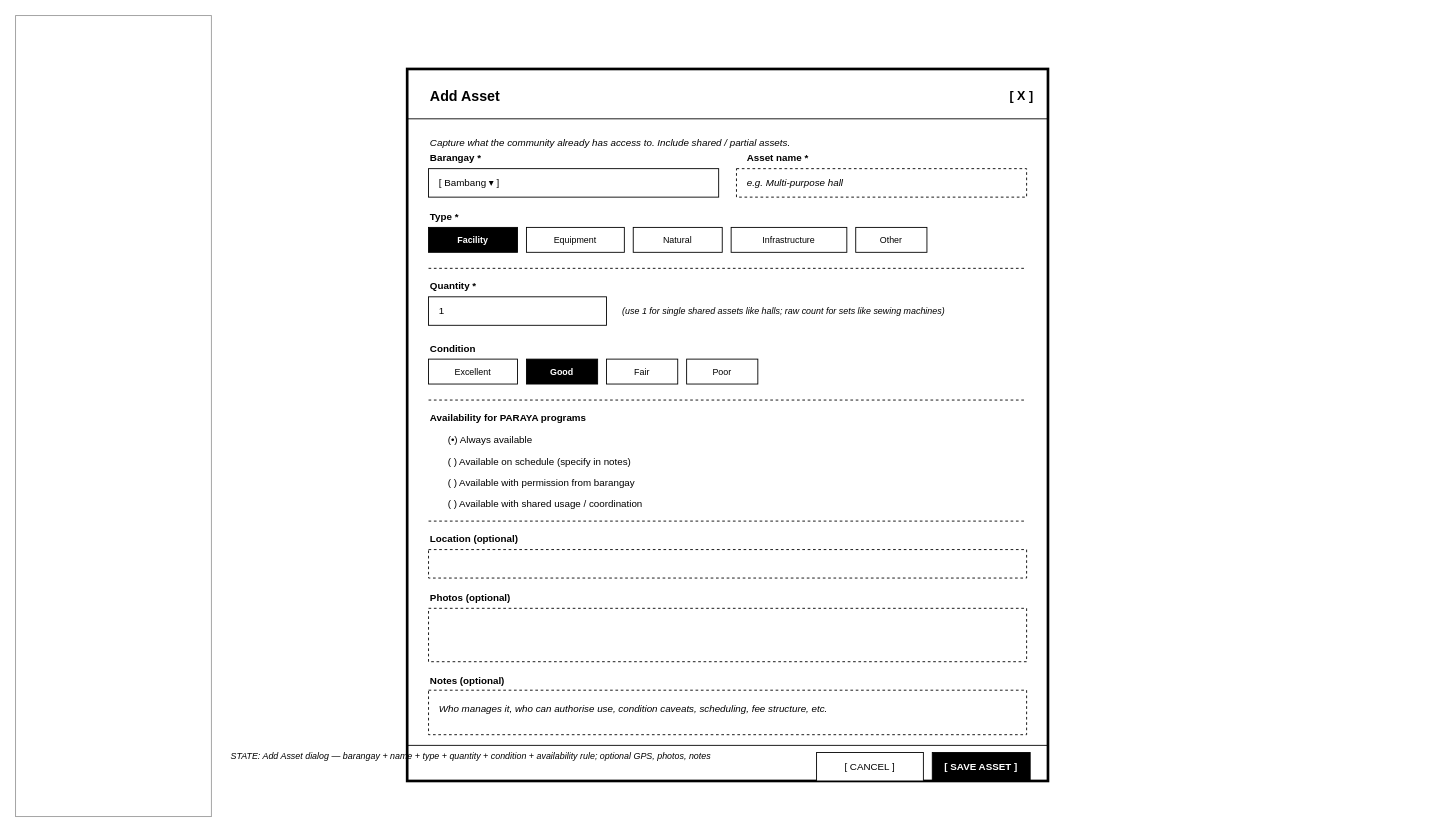
Some shapes in this 1437 by 832 pixel diagram are drawn without their labels. The shapes that lost their labels are listed below. From the top down, each one's centre as x and y in pixels, then its label:
At pixel 113 416: "AGAPE".
At pixel 727 563: "[ Pick on map ▾ ] or 14.7975, 120.9320".
At pixel 727 634: "Click or drag photos here · up to 3 photos · useful for condition reports".
